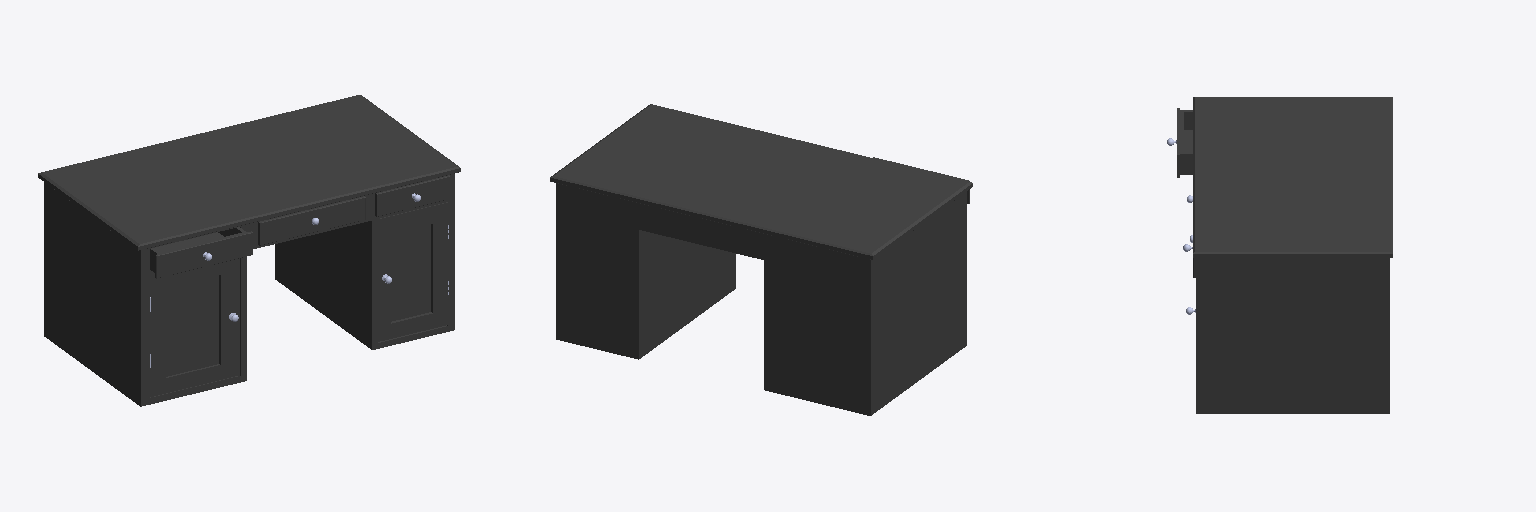
Rendered from TableOBJ.obj.
3 views of the same model, side by side, from view 1: azimuth 30°, elevation 25°; view 2: azimuth 150°, elevation 25°; view 3: azimuth 270°, elevation 25° (orthographic).
Visible parts, largest first — view 1: pCubeShape8, Wood, pCubeShape2, pCubeShape3, pCubeShape5, pCubeShape6; view 2: Wood, pCubeShape8; view 3: pCubeShape8, Wood, pCubeShape5.
Boxes of the visible parts, x1,y1,x2,y2 form: pCubeShape8: [38, 95, 460, 250]; Wood: [44, 174, 454, 406]; pCubeShape2: [150, 258, 239, 396]; pCubeShape3: [378, 202, 447, 341]; pCubeShape5: [150, 227, 252, 278]; pCubeShape6: [258, 196, 365, 245]; Wood: [556, 183, 966, 415]; pCubeShape8: [550, 104, 972, 259]; pCubeShape8: [1193, 97, 1392, 257]; Wood: [1193, 258, 1389, 413]; pCubeShape5: [1177, 108, 1192, 177].
Bounding box in the file's own units: 2.48 × 1.2 × 1.51.